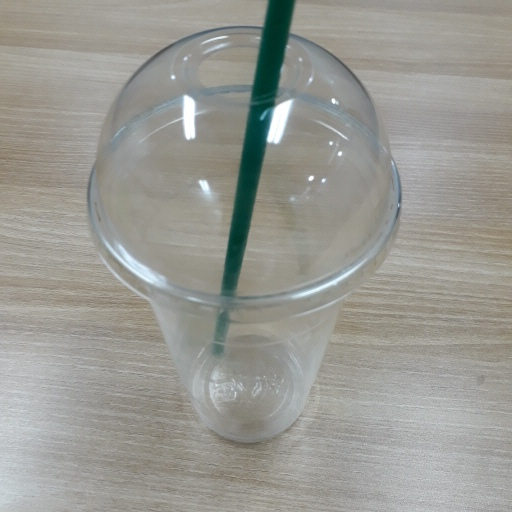Plastic_2: (84, 4, 406, 445)
